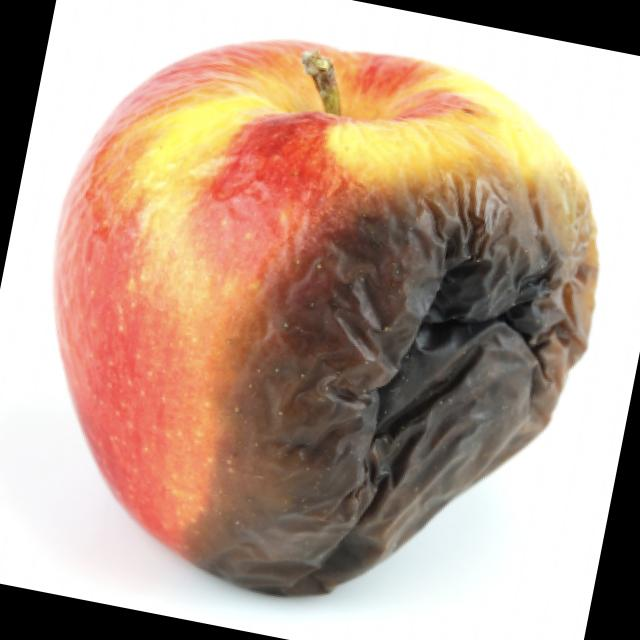rotten_apple: (4, 5, 630, 640)
